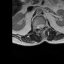CCS_normal: (39, 21, 41, 31)
LFS_normal: (43, 21, 46, 29)
LLS_normal: (41, 21, 43, 30)
RFS_normal: (35, 24, 37, 30)
RLS_normal: (37, 22, 39, 30)
